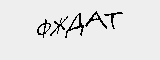А: (83, 10, 108, 29)
Д: (64, 10, 85, 37)
Ж: (48, 11, 68, 37)
Т: (103, 10, 122, 28)
Ф: (35, 18, 52, 37)
